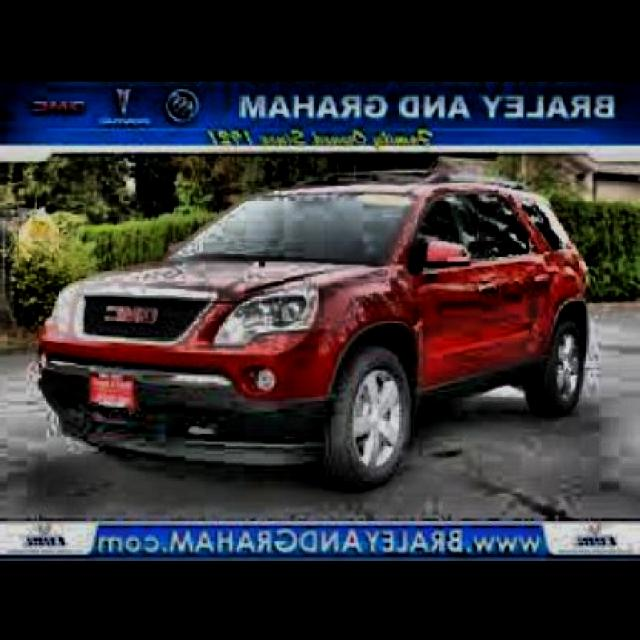red: (0, 182, 604, 444)
